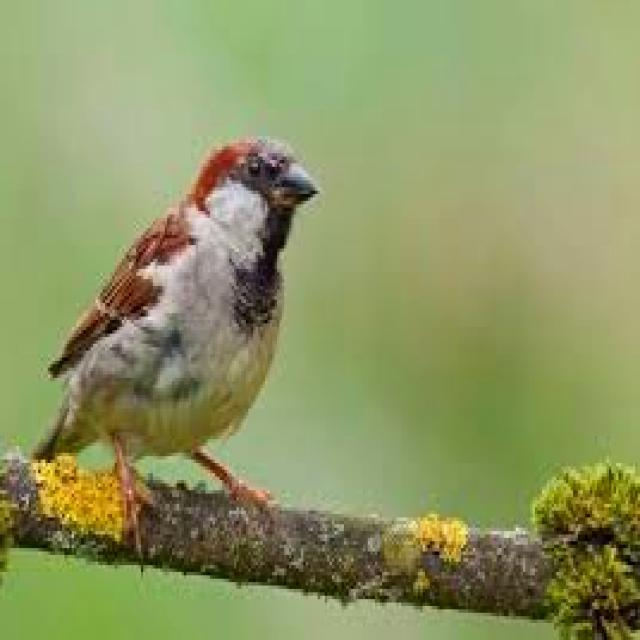sparrow: (33, 140, 315, 545)
